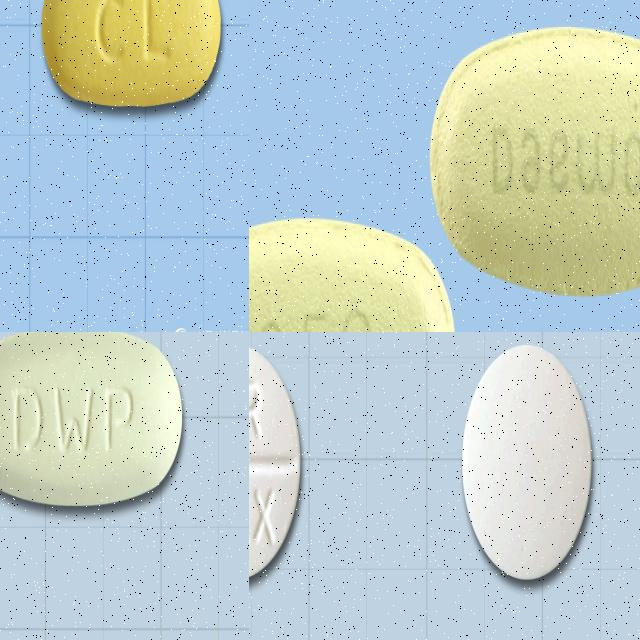Auscle - 500mg: (40, 0, 225, 114)
Ciroxin - 250mg: (458, 341, 597, 588), (249, 341, 304, 591)
Clacin: (0, 332, 187, 514)
Clasin: (427, 25, 640, 303), (249, 212, 456, 332)
